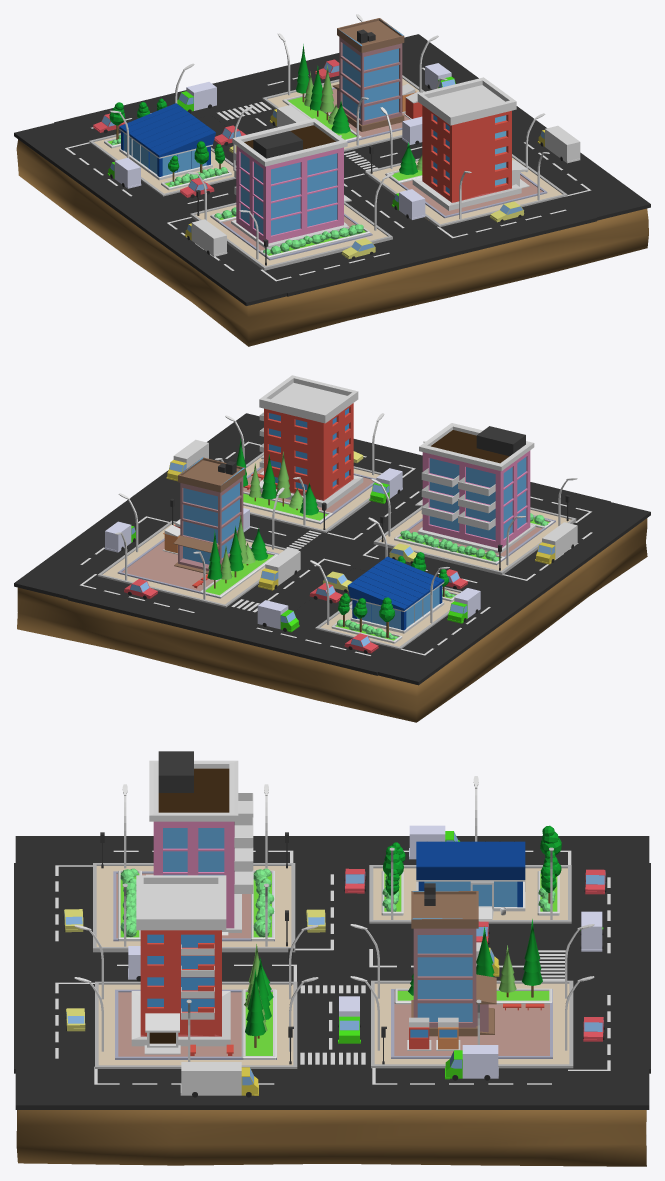
Rendered from city_1.fbx.
3 renders of one model, top to bottom at view 1: azimuth 30°, elevation 25°; view 2: azimuth 150°, elevation 25°; view 3: azimuth 270°, elevation 25°, orthographic. The views are drawn at different scales.
Visible parts, largest first — view 1: ROAD_World ap_0, Floor_6_World ap_0, House_World ap_0, House_2_World ap_0, House_3_World ap_0, Shop_World ap_0, Floor_World ap_0, Floor_2_World ap_0, ROAD_Lines_12_World ap_0, Floor_4_4_World ap_0, Floor_4_2_World ap_0, Car_08_4_World ap.8_0 (+13 smaller); view 2: ROAD_World ap_0, Floor_6_World ap_0, House_World ap_0, House_2_World ap_0, House_3_World ap_0, Shop_World ap_0, Floor_World ap_0, Floor_3_World ap_0, Floor_4_3_World ap_0, ROAD_Lines_12_World ap_0, Floor_2_World ap_0, Floor_4_4_World ap_0 (+14 smaller); view 3: ROAD_World ap_0, Floor_6_World ap_0, House_2_World ap_0, House_World ap_0, House_3_World ap_0, Shop_World ap_0, Floor_World ap_0, Floor_4_3_World ap_0, Floor_2_World ap_0, Floor_3_World ap_0, ROAD_Lines_12_World ap_0, Floor_4_4_World ap_0 (+17 smaller).
Part boxes in pixels (<box>): ROAD_World ap_0: <box>14,34,650,305</box>; Floor_6_World ap_0: <box>16,139,648,346</box>; House_World ap_0: <box>231,118,351,248</box>; House_2_World ap_0: <box>412,77,529,210</box>; House_3_World ap_0: <box>332,18,404,131</box>; Shop_World ap_0: <box>119,103,215,180</box>; Floor_World ap_0: <box>190,202,392,270</box>; Floor_2_World ap_0: <box>365,154,567,227</box>; ROAD_Lines_12_World ap_0: <box>65,67,591,281</box>; Floor_4_4_World ap_0: <box>89,133,236,196</box>; Floor_4_2_World ap_0: <box>385,172,547,218</box>; Car_08_4_World ap.8_0: <box>537,125,580,163</box>; ROAD_World ap_0: <box>14,413,650,685</box>; Floor_6_World ap_0: <box>17,501,647,722</box>; House_World ap_0: <box>415,423,535,553</box>; House_2_World ap_0: <box>259,375,363,508</box>; House_3_World ap_0: <box>173,457,245,573</box>; Shop_World ap_0: <box>347,556,444,633</box>; Floor_World ap_0: <box>373,506,576,575</box>; Floor_3_World ap_0: <box>97,520,286,607</box>; Floor_4_3_World ap_0: <box>117,538,278,598</box>; ROAD_Lines_12_World ap_0: <box>80,441,592,655</box>; Floor_2_World ap_0: <box>243,452,381,533</box>; Floor_4_4_World ap_0: <box>315,586,462,649</box>; ROAD_World ap_0: <box>14,836,650,1109</box>; Floor_6_World ap_0: <box>16,1110,646,1166</box>; House_2_World ap_0: <box>131,875,230,1054</box>; House_World ap_0: <box>146,751,253,935</box>; House_3_World ap_0: <box>411,883,496,1036</box>; Shop_World ap_0: <box>416,841,525,919</box>; Floor_World ap_0: <box>93,863,295,952</box>; Floor_4_3_World ap_0: <box>391,989,552,1058</box>; Floor_2_World ap_0: <box>95,981,297,1068</box>; Floor_3_World ap_0: <box>371,980,573,1068</box>; ROAD_Lines_12_World ap_0: <box>55,850,610,1084</box>; Floor_4_4_World ap_0: <box>369,865,571,923</box>.
Size of the model in its own units: 1535 by 521 by 1535.
Materials: 36 (1 with a texture image).
